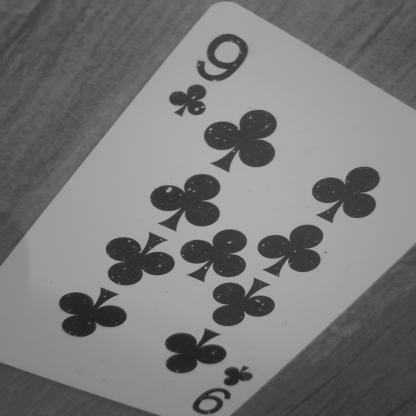9C: (164, 26, 262, 120), (179, 358, 282, 416)
